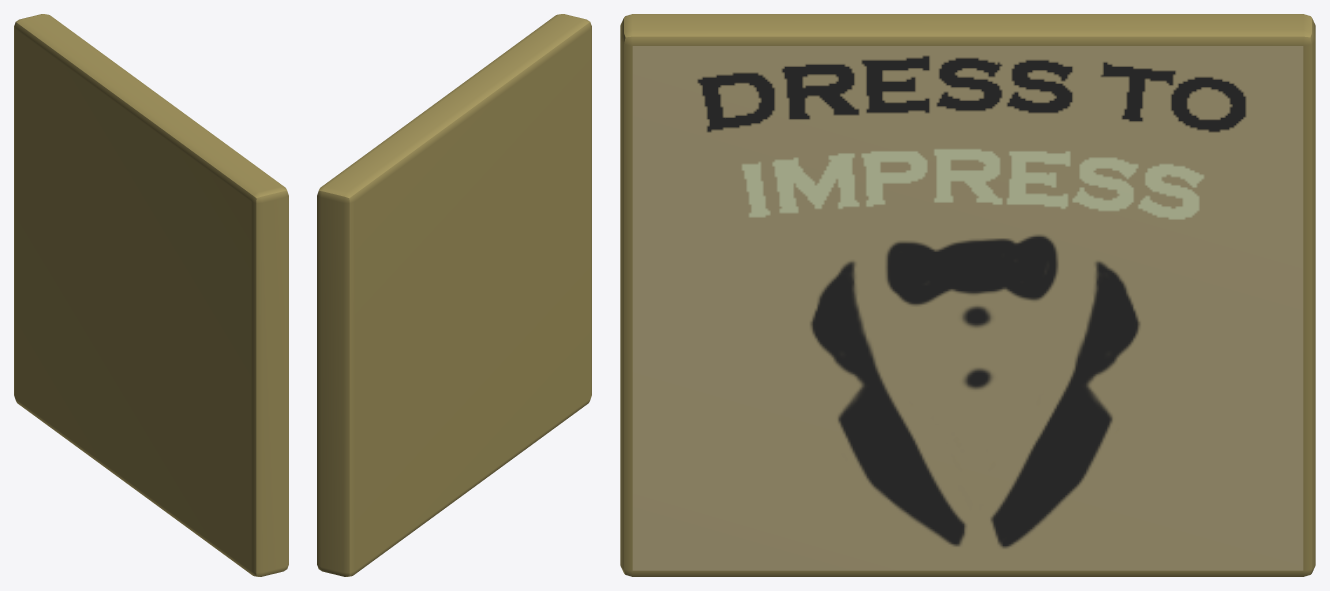
File: BuildingSign_15.fbx
The picture shows the model from 3 angles, left to right: view 1: azimuth 30°, elevation 25°; view 2: azimuth 150°, elevation 25°; view 3: azimuth 270°, elevation 25°; orthographic projection. The views are drawn at different scales.
Visible parts, largest first — view 1: polySurface993; view 2: polySurface993; view 3: polySurface993.
Part boxes in pixels (<box>): polySurface993: <box>14,14,288,576</box>; polySurface993: <box>317,14,591,576</box>; polySurface993: <box>620,14,1315,576</box>.
Size of the model in its own units: 0.4717 by 4.69 by 5.4.
